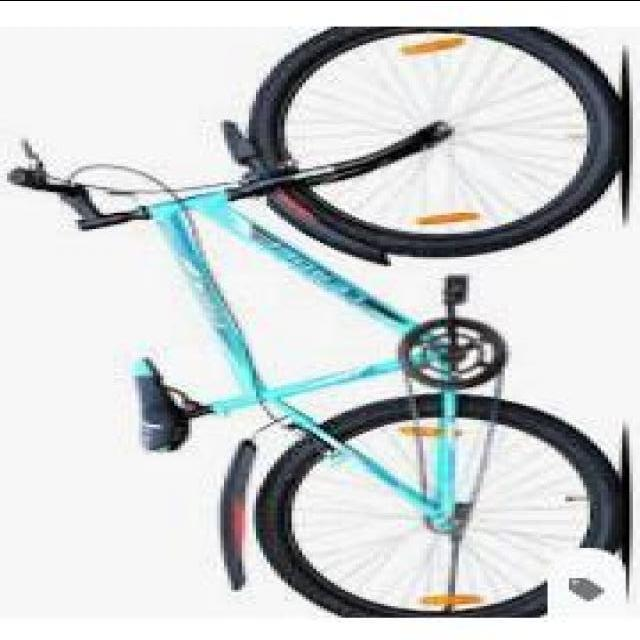bicycle: (75, 25, 640, 623)
